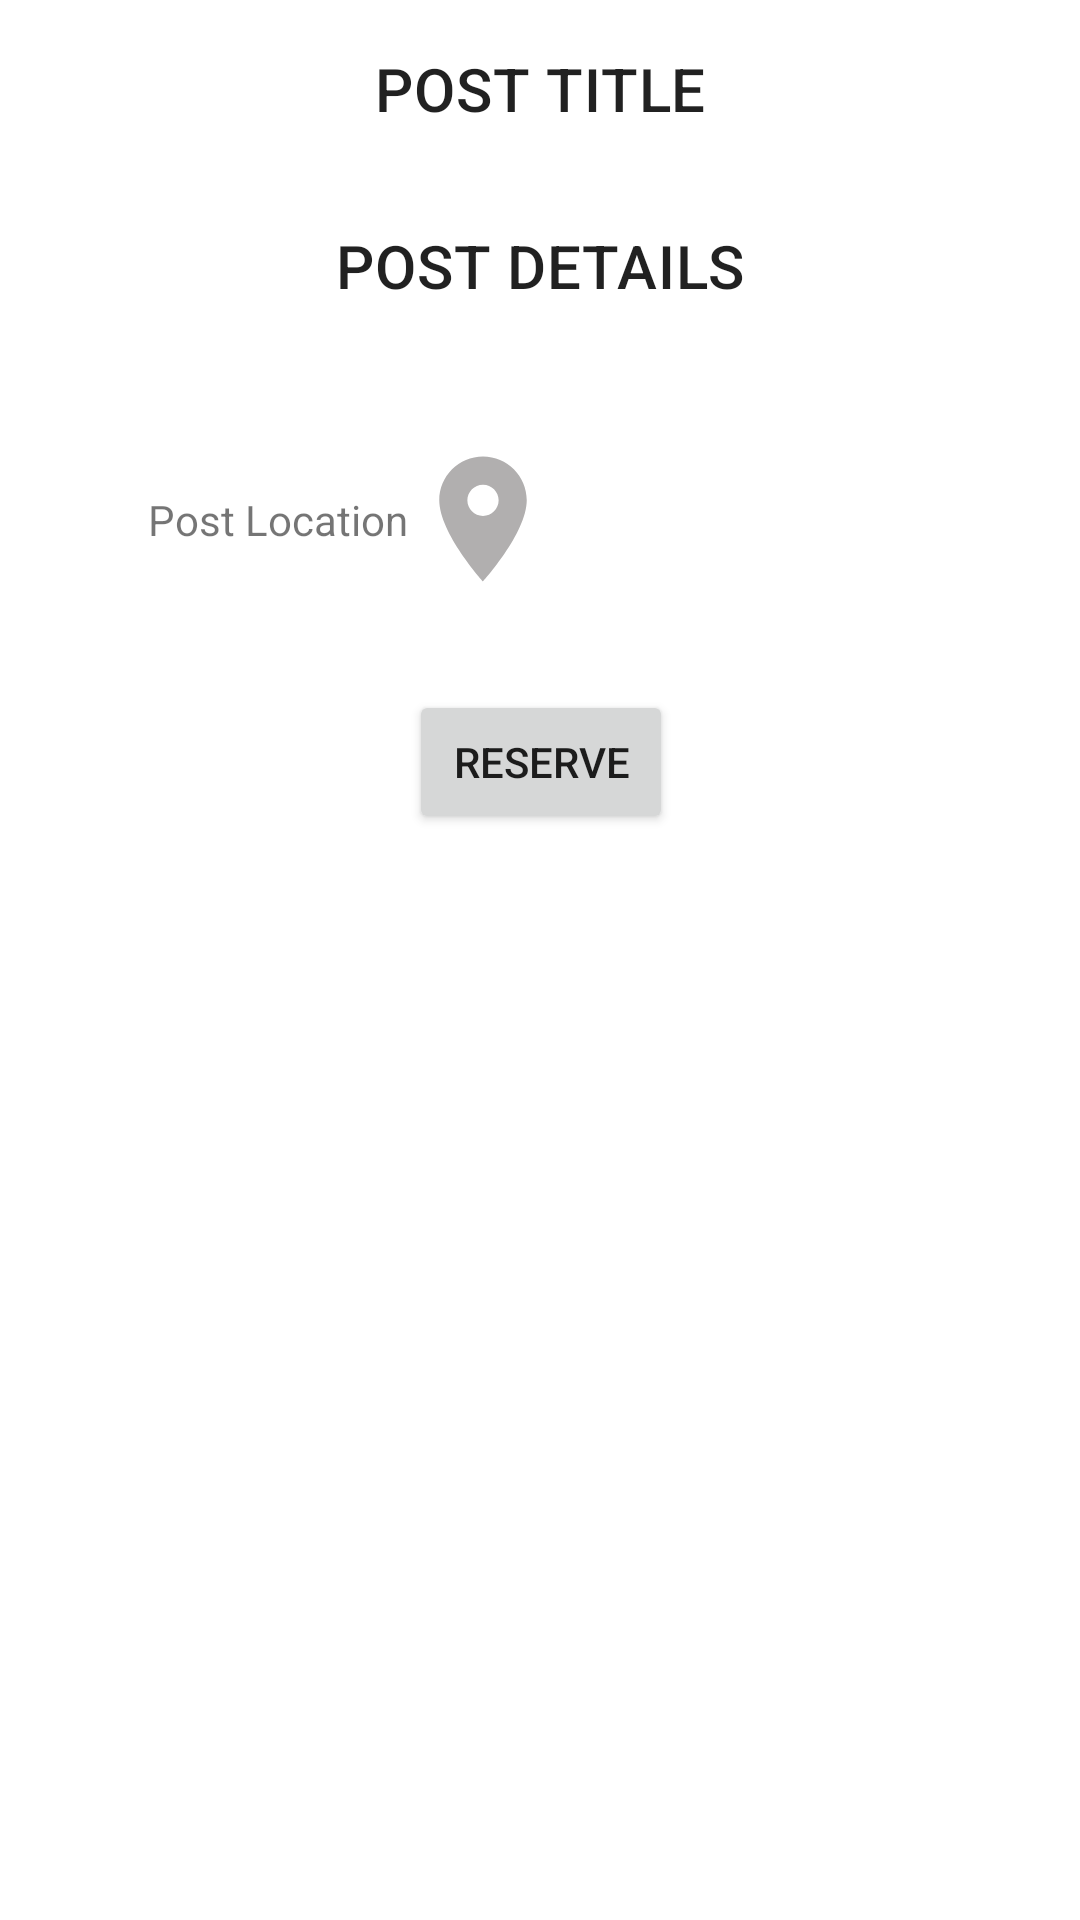

Where icons sit on this 1080*1920 app screen, as (x1, y1, x2, y2):
location on: (439, 456, 527, 581)
